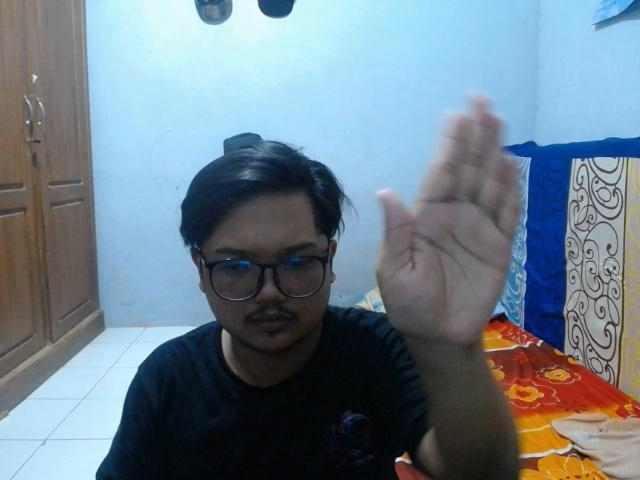Release: (368, 84, 528, 352)
